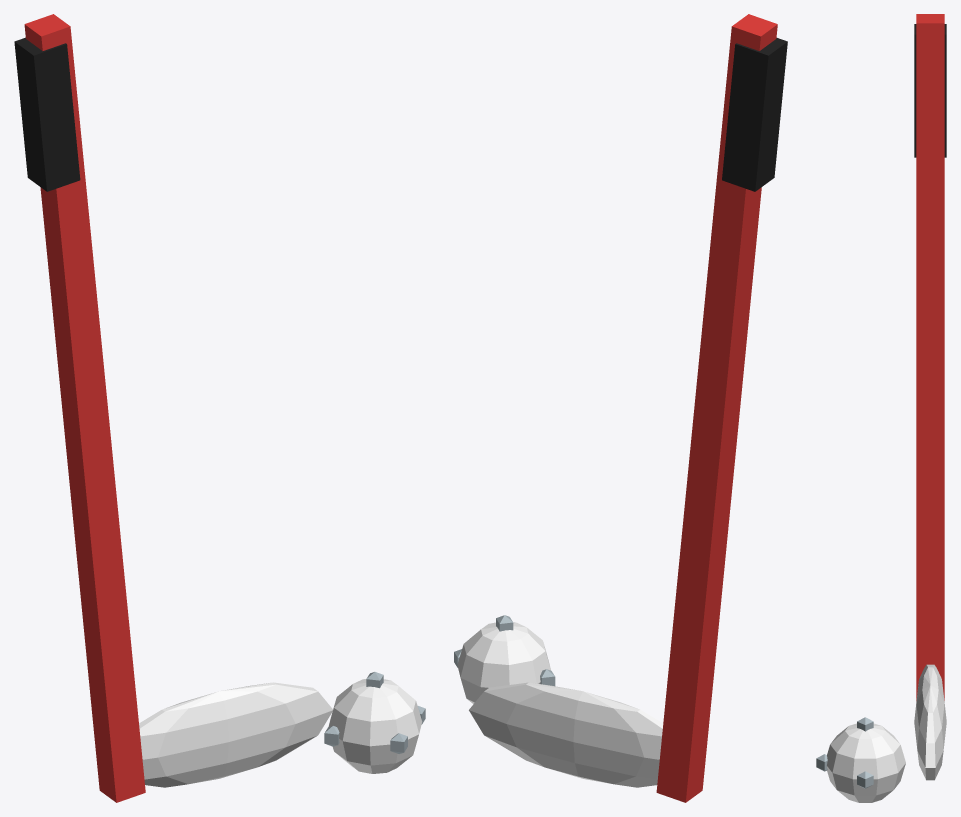
Rendered from innebandyklubba.glb.
3 views of the same model, side by side, from view 1: azimuth 30°, elevation 25°; view 2: azimuth 150°, elevation 25°; view 3: azimuth 270°, elevation 25° (orthographic). The views are drawn at different scales.
Visible parts, largest first — view 1: innebandyklubba; view 2: innebandyklubba; view 3: innebandyklubba.
Boxes of the visible parts, x1=… form: innebandyklubba: x1=14, y1=14, x2=425, y2=802; innebandyklubba: x1=454, y1=14, x2=787, y2=802; innebandyklubba: x1=816, y1=14, x2=946, y2=802.
Size of the model in its own units: 0.4333 by 0.9095 by 0.1604.
